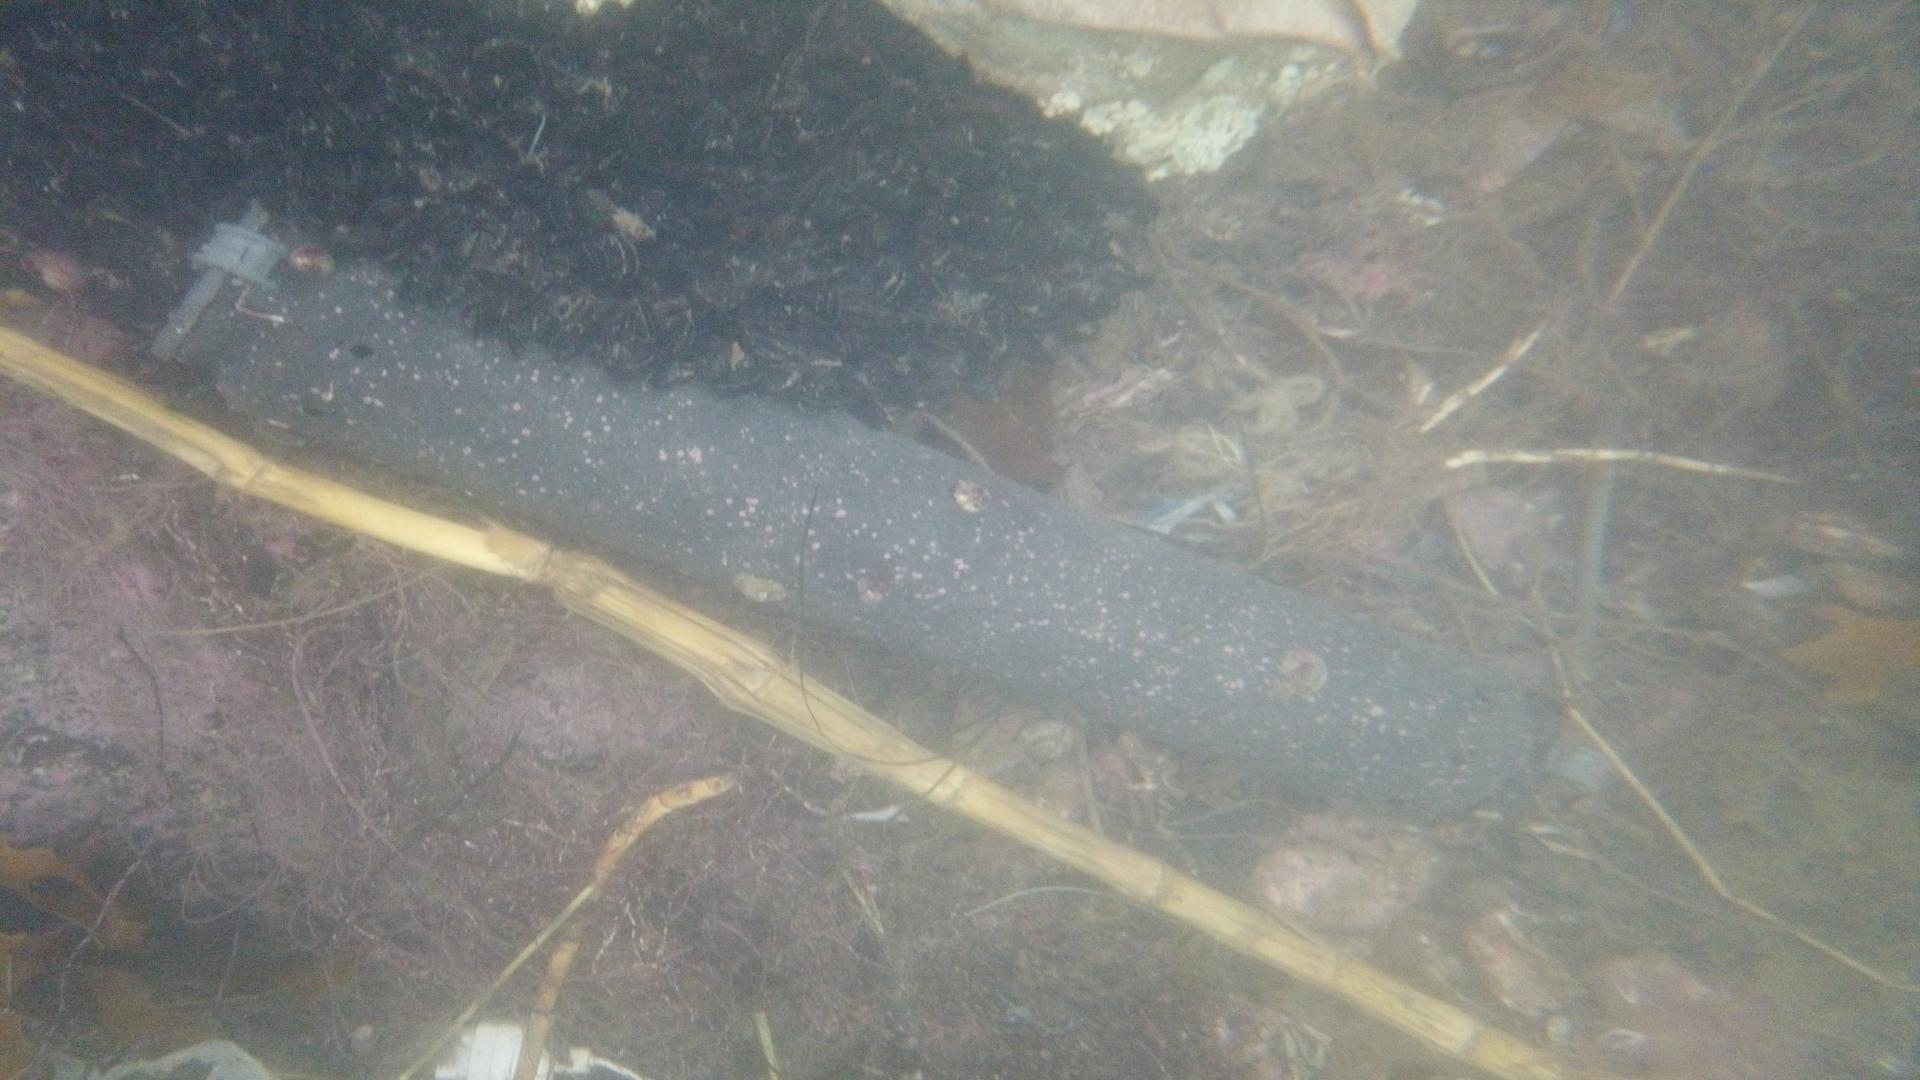eel fish trap: (144, 200, 1547, 825)
